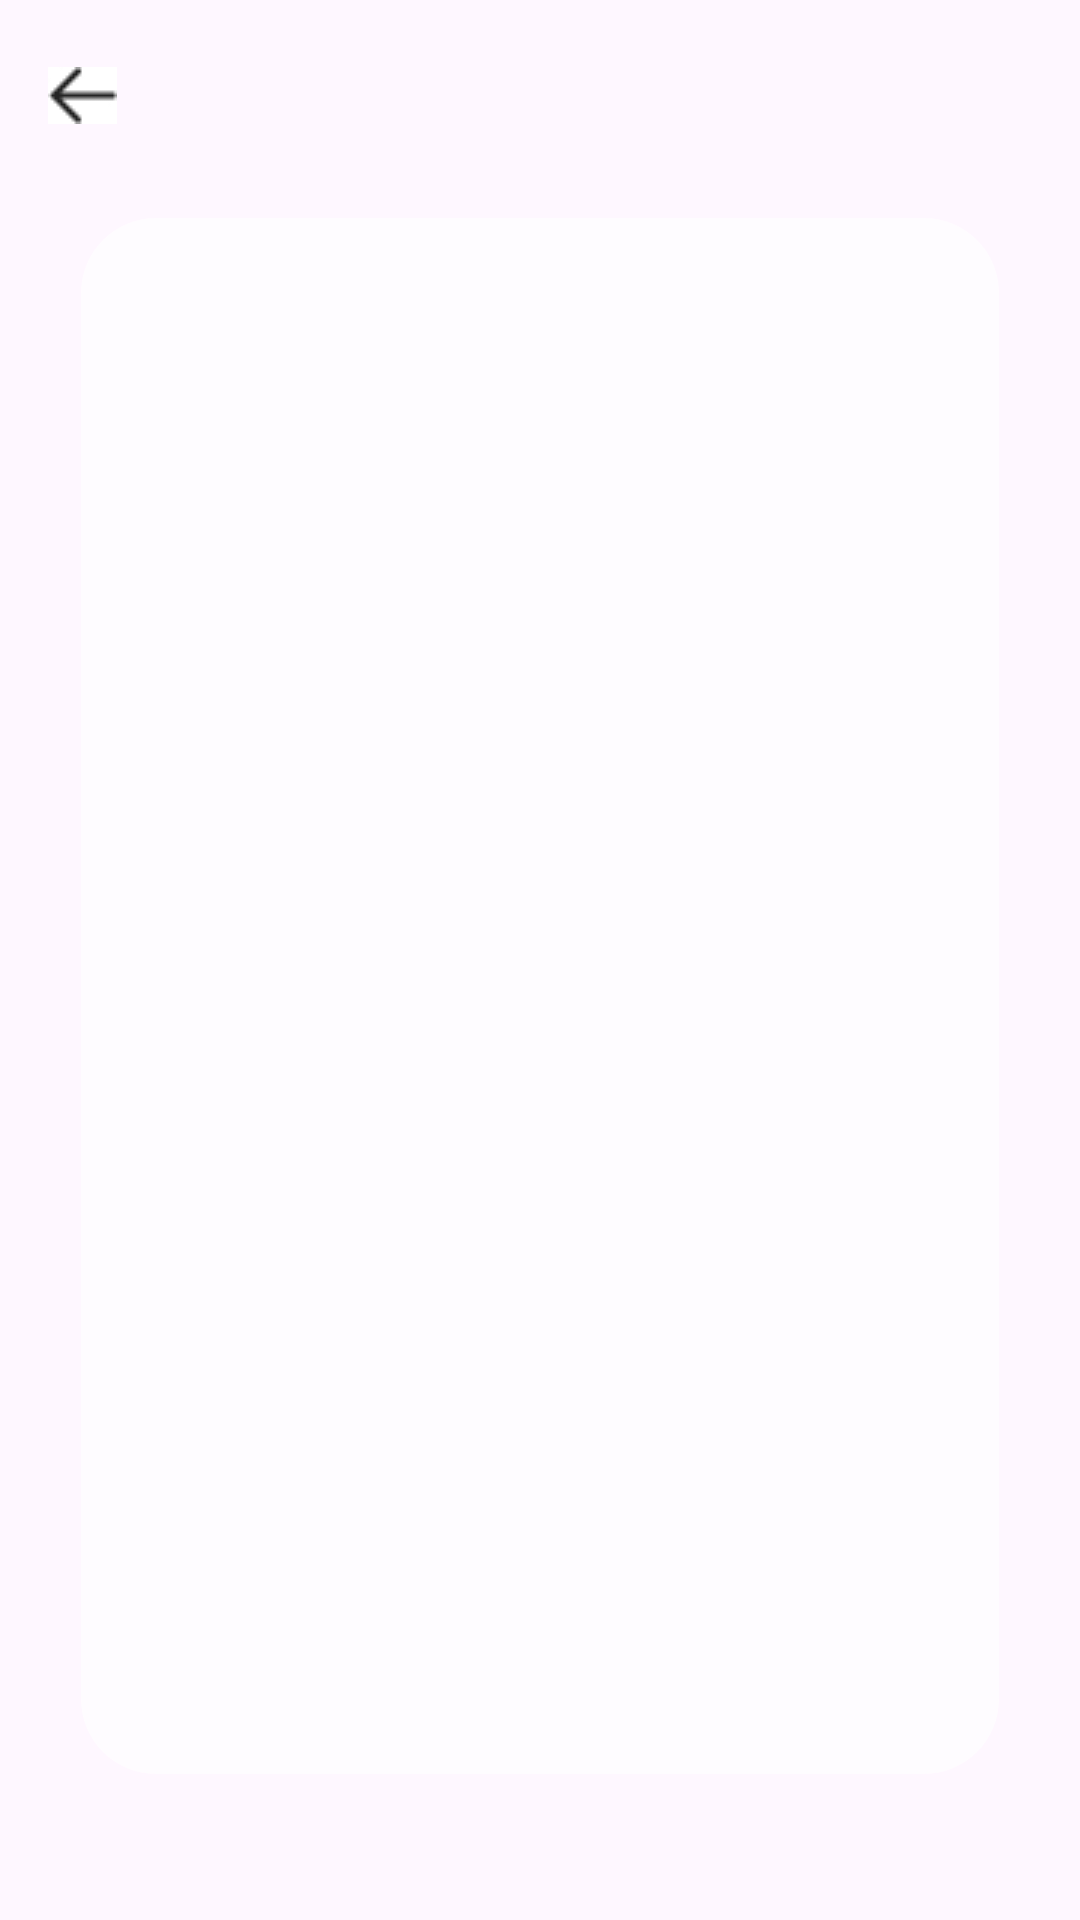

Where to tap for icons on this 1080×1920 app screen, as (x,y):
back: (82,95)
